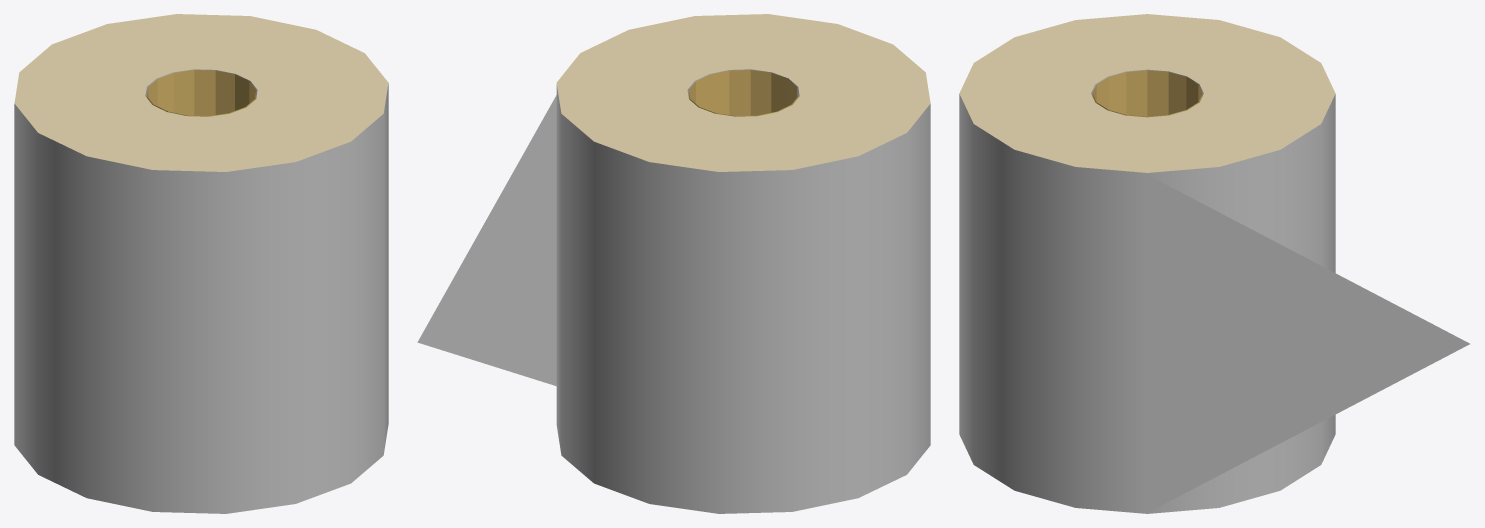
Rendered from ToiletPaperRoll 1.fbx.
3 views of the same model, side by side, from view 1: azimuth 30°, elevation 25°; view 2: azimuth 150°, elevation 25°; view 3: azimuth 270°, elevation 25° (orthographic).
Visible parts, largest first — view 1: Cylinder, Cylinder.001; view 2: Cylinder, Cylinder.002, Cylinder.001; view 3: Cylinder, Cylinder.002, Cylinder.001.
Part boxes in pixels (box(x1,y1,x2,y2)): Cylinder: box(14, 14, 388, 513); Cylinder.001: box(147, 70, 255, 116); Cylinder: box(556, 14, 930, 513); Cylinder.002: box(417, 95, 556, 386); Cylinder.001: box(689, 70, 798, 116); Cylinder: box(959, 14, 1335, 513); Cylinder.002: box(1149, 176, 1469, 511); Cylinder.001: box(1092, 70, 1202, 117).
Bounding box in the file's own units: 12.04 × 12.01 × 16.32.
